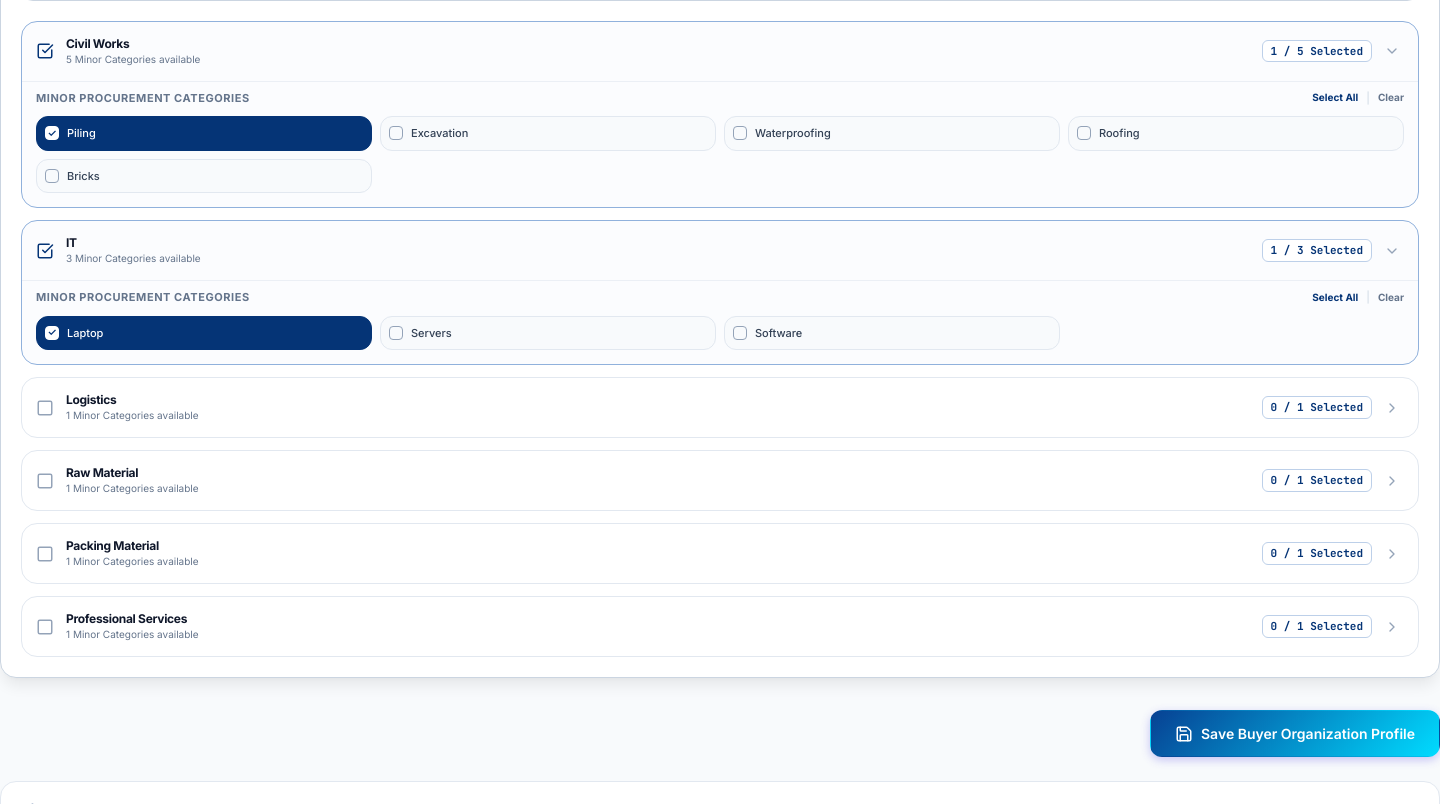
it: app/buyer/buyer-profile.tsx › toggles a major category on and off
This screenshot has width=1440, height=804.
(page scrolled)
Click the heading "Logistics". click: x=91, y=400
box: x1=66 y1=392 x2=116 y2=407
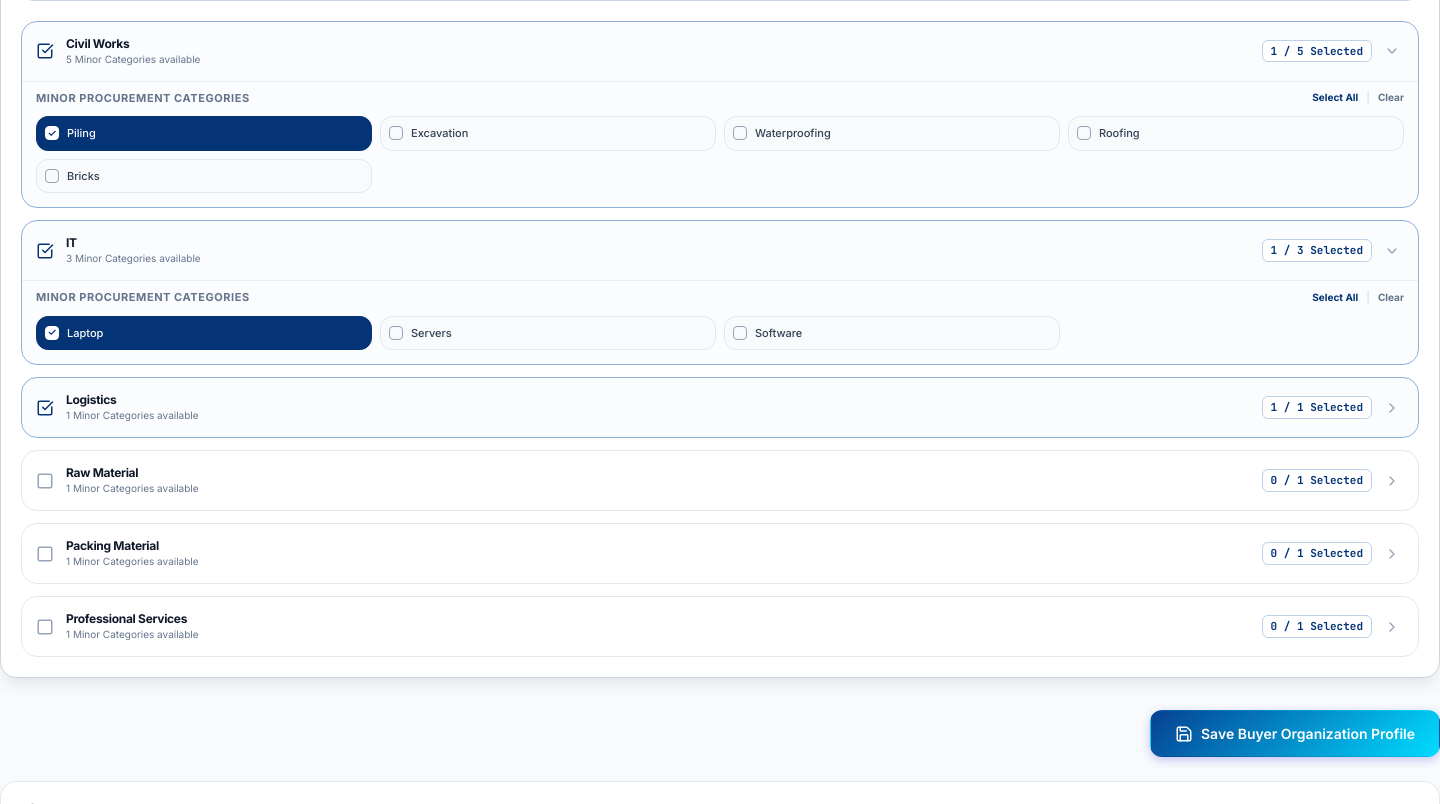
Click the heading "Logistics". click: x=91, y=400
box: x1=66 y1=392 x2=116 y2=407
(page scrolled)
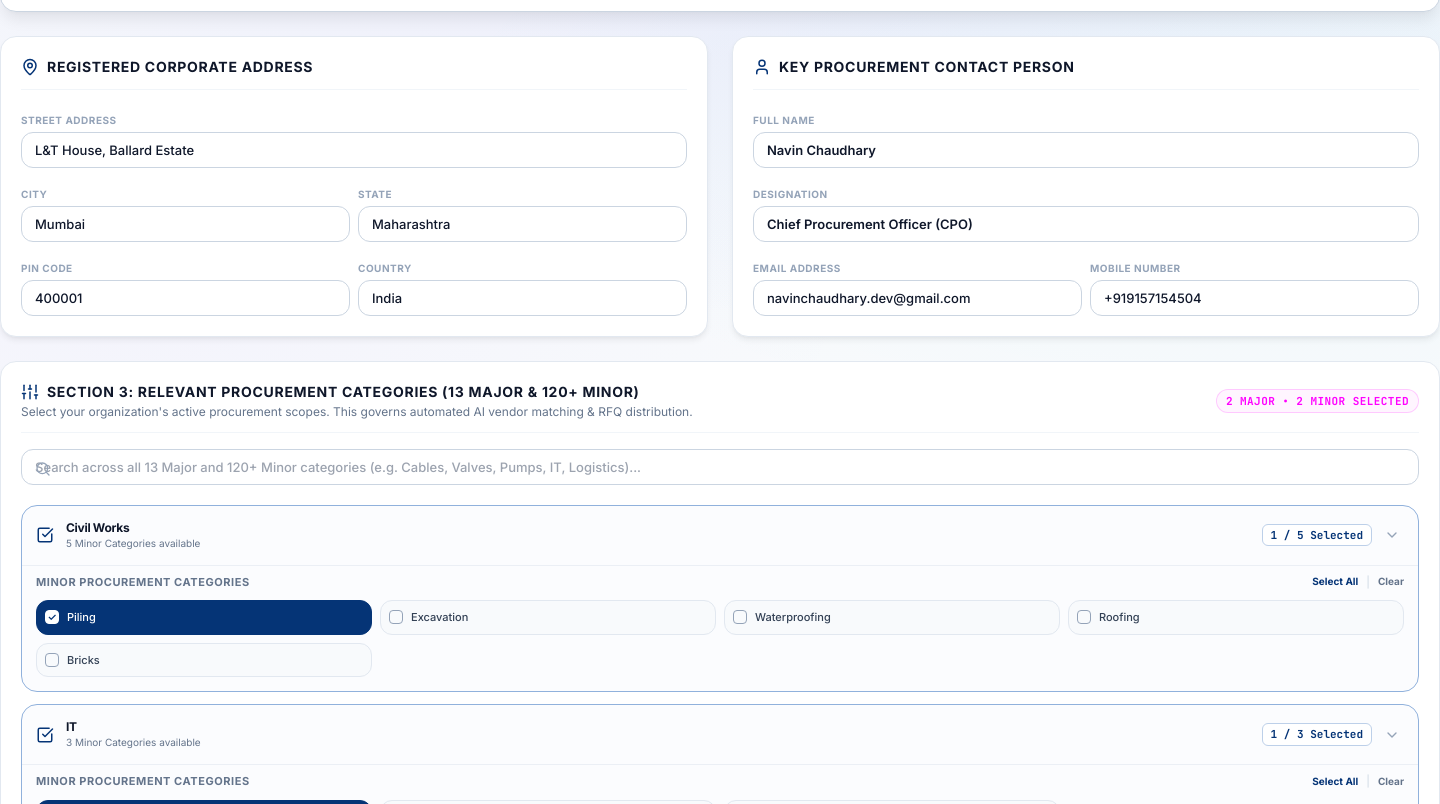
Expected: the text with class "font-mono" reads "2 Major • 2 Minor Selected", x1=1216 y1=388 x2=1419 y2=412
